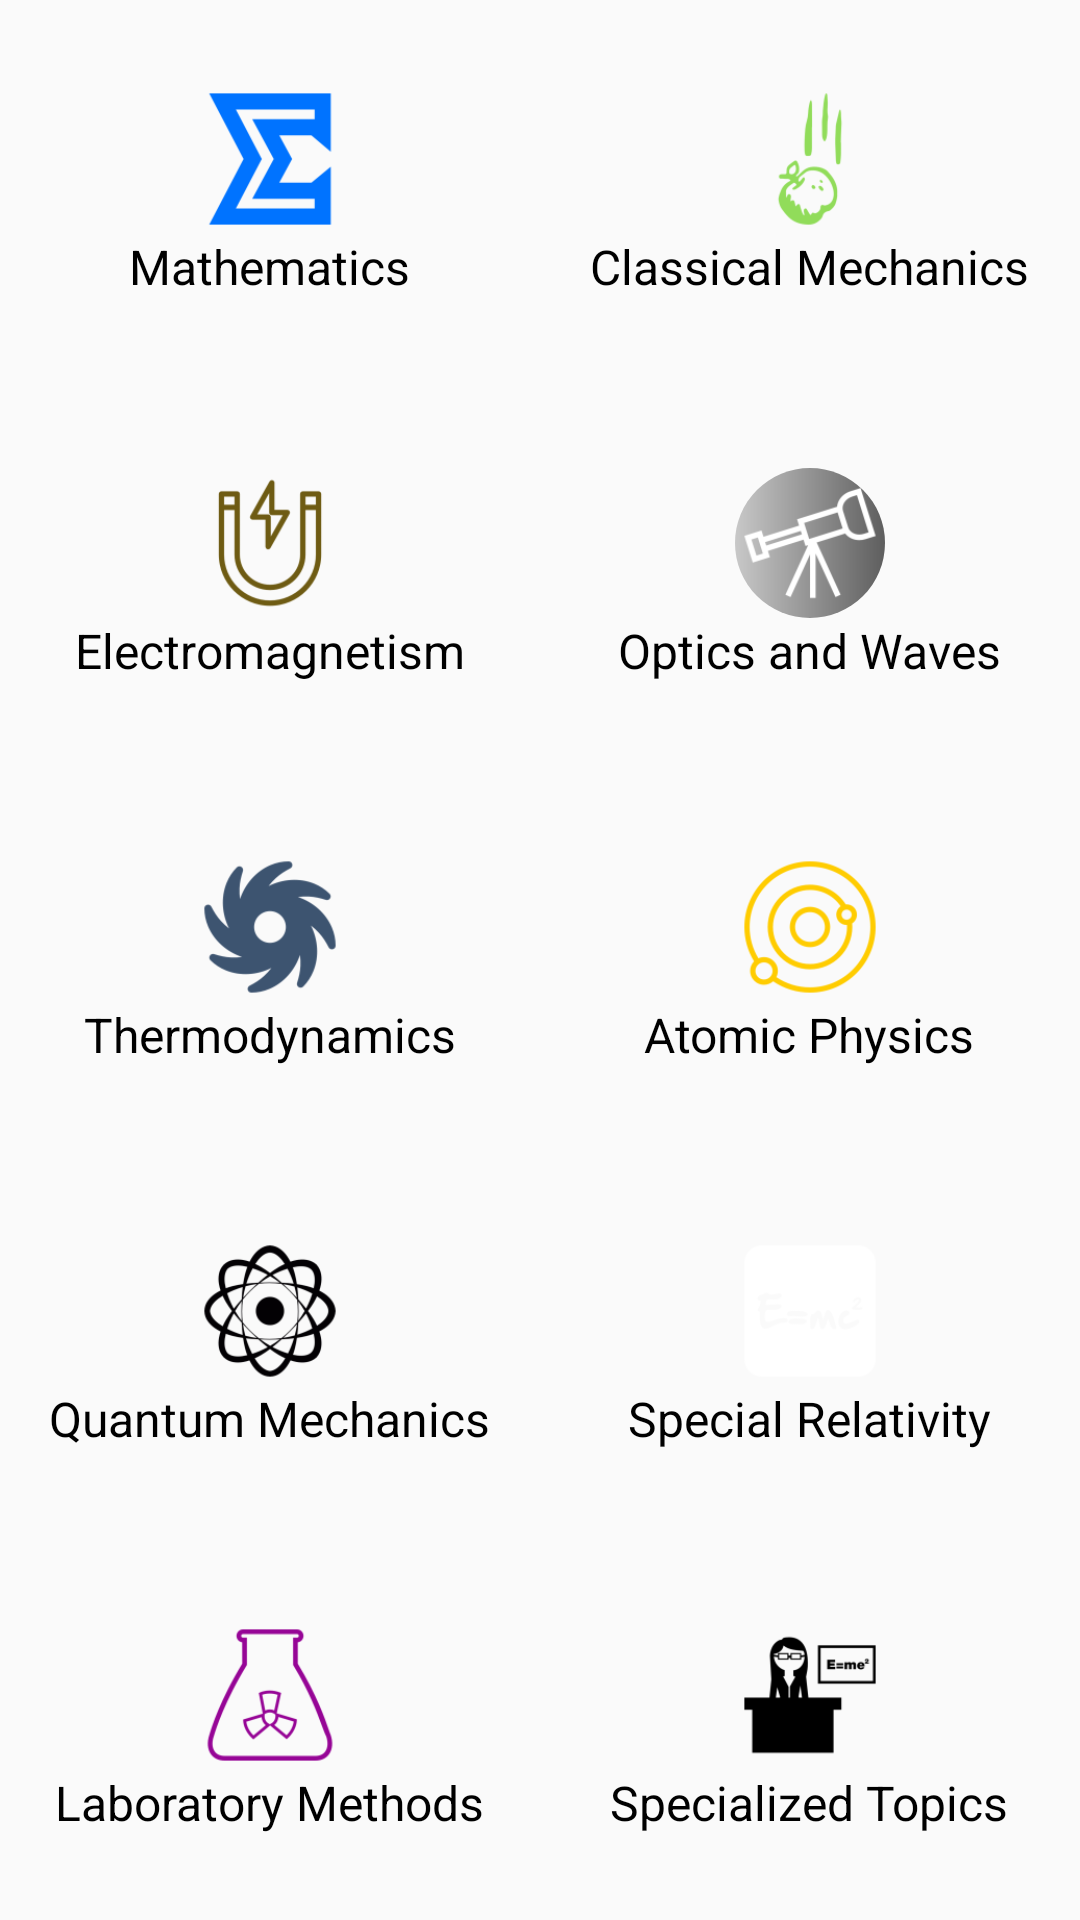

Where to tap for icons on this 1080px×1920px app screen, as point (x, y):
atom: point (270, 1311)
bottle: point (270, 1695)
falling apple: point (810, 159)
summation: point (270, 159)
teacher: point (810, 1695)
telescope: point (810, 543)
whirlwind: point (270, 927)
